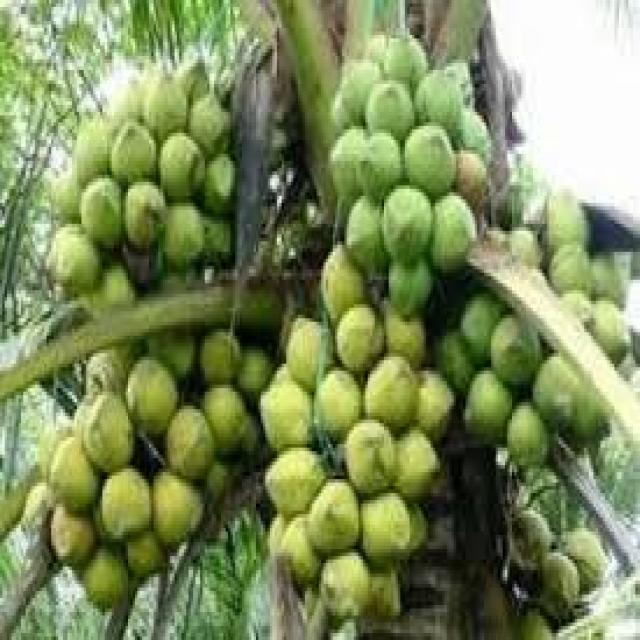coconuts: (262, 307, 446, 622), (42, 350, 226, 615), (328, 29, 486, 315), (47, 62, 228, 285), (466, 310, 572, 464), (513, 502, 606, 624)
